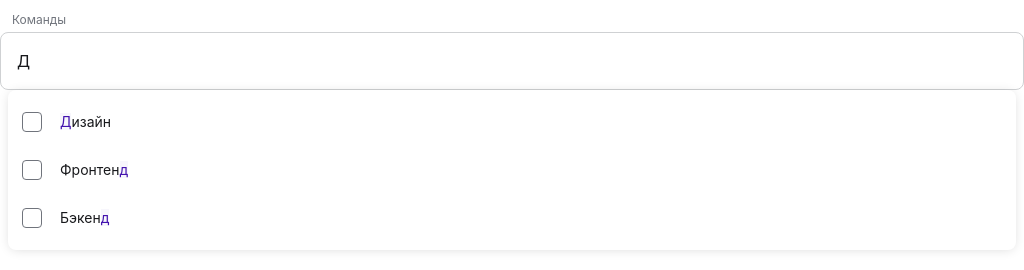
Test case: AsyncMultiselect › clears the search after selection without refetching below minCharacters
The width and height of the screenshot is (1024, 270).
Click the option "Дизайн" at {"x": 67, "y": 122}, box [22,112,111,132]
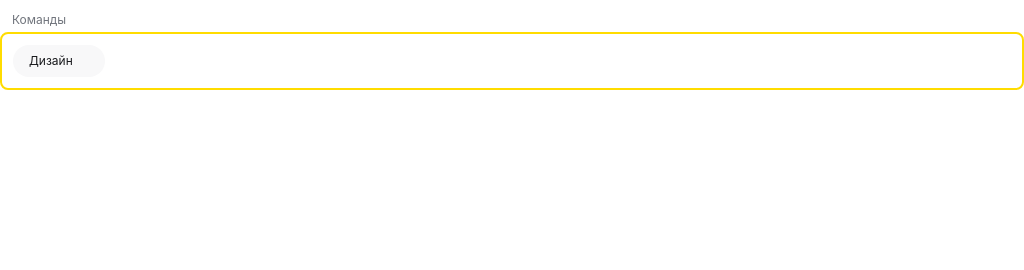
Expected: the dropdown is empty, [113,45,931,77]
Now the list is gone
